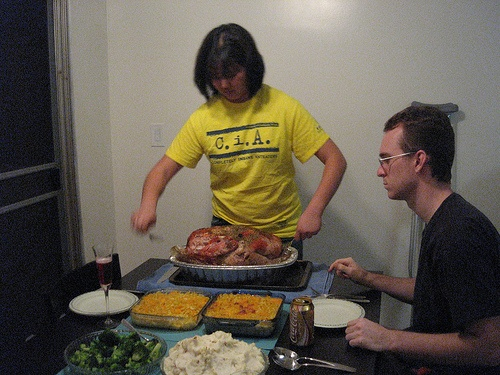head: (377, 104, 456, 203), (191, 19, 270, 118)
person: (127, 20, 349, 263), (318, 104, 500, 375)
